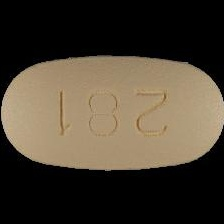10544-245: (0, 0, 224, 224)
